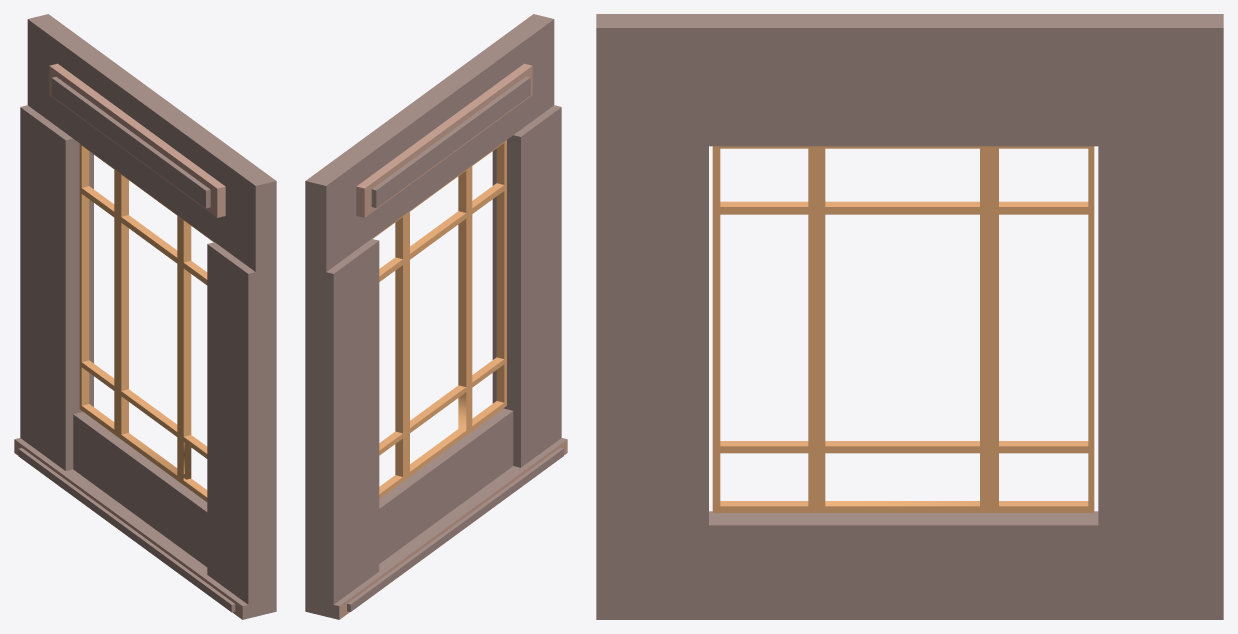
The model's file is window_03.fbx.
3 renders of one model, left to right at view 1: azimuth 30°, elevation 25°; view 2: azimuth 150°, elevation 25°; view 3: azimuth 270°, elevation 25°, orthographic. The views are drawn at different scales.
Parts seen in each view (by area): view 1: window_03_wall, window_03_frame; view 2: window_03_wall, window_03_frame; view 3: window_03_wall, window_03_frame.
Boxes of the visible parts, x1,y1,x2,y2 form: window_03_wall: [14, 14, 276, 619]; window_03_frame: [79, 143, 214, 501]; window_03_wall: [305, 14, 567, 619]; window_03_frame: [372, 140, 506, 498]; window_03_wall: [596, 14, 1223, 619]; window_03_frame: [712, 146, 1094, 512].
Size of the model in its own units: 0.813 by 8.89 by 8.54.
